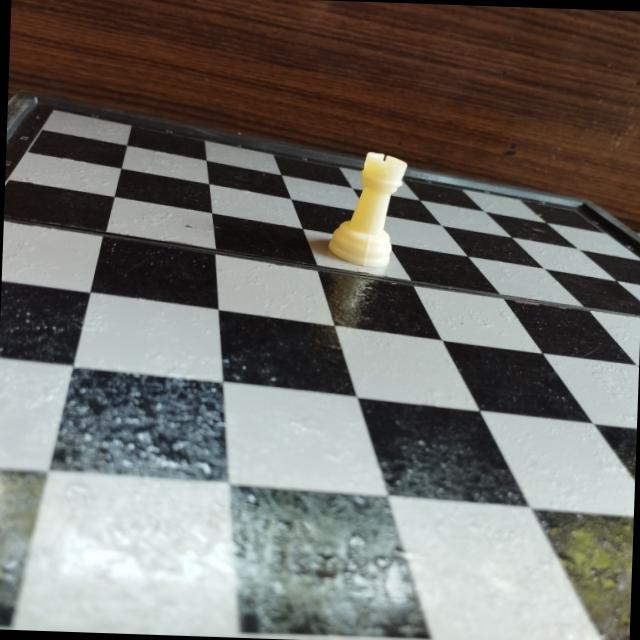White Rook: (321, 146, 413, 273)
